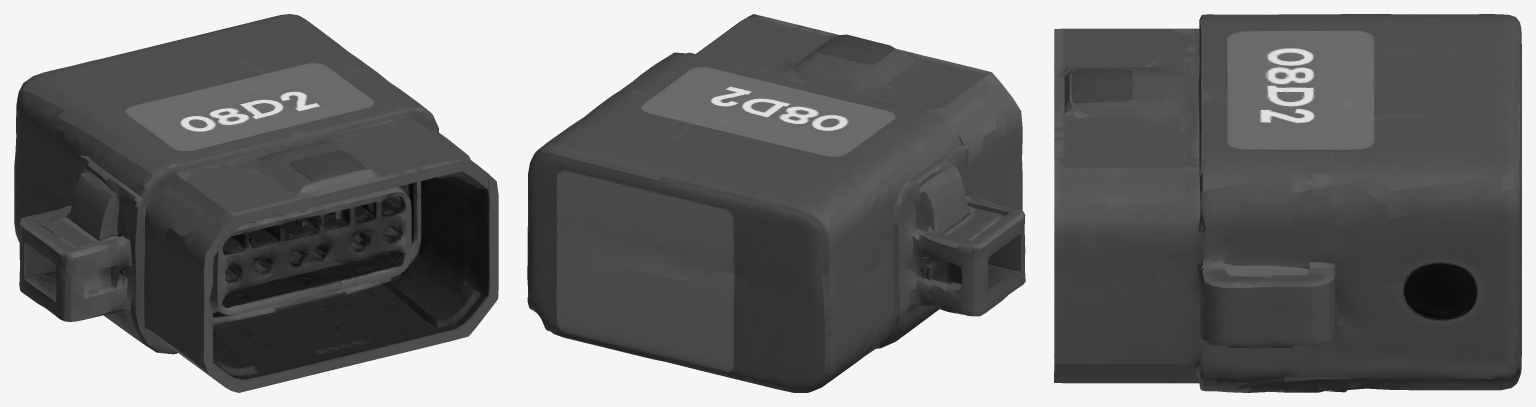
The model's file is obd-connector.glb.
3 renders of one model, left to right at view 1: azimuth 30°, elevation 25°; view 2: azimuth 150°, elevation 25°; view 3: azimuth 270°, elevation 25°, orthographic. The views are drawn at different scales.
Size of the model in its own units: 1.9 by 0.8772 by 1.55.
1 material, 1 textured.
